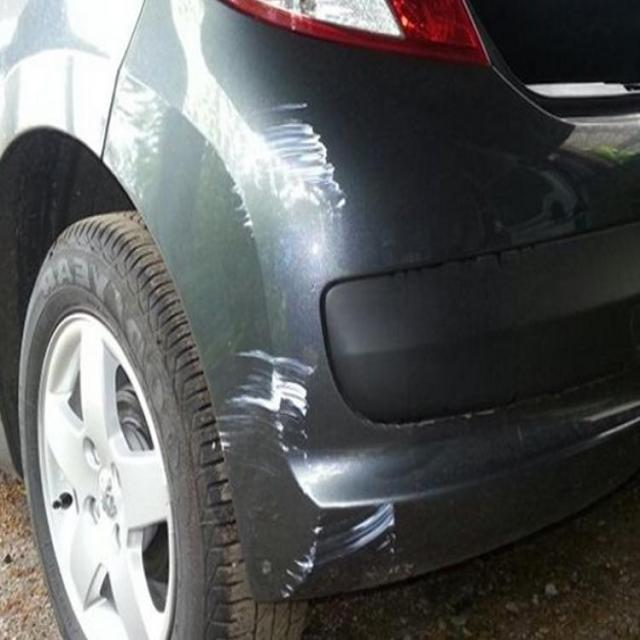scratch: (206, 342, 410, 606), (215, 100, 360, 238)
